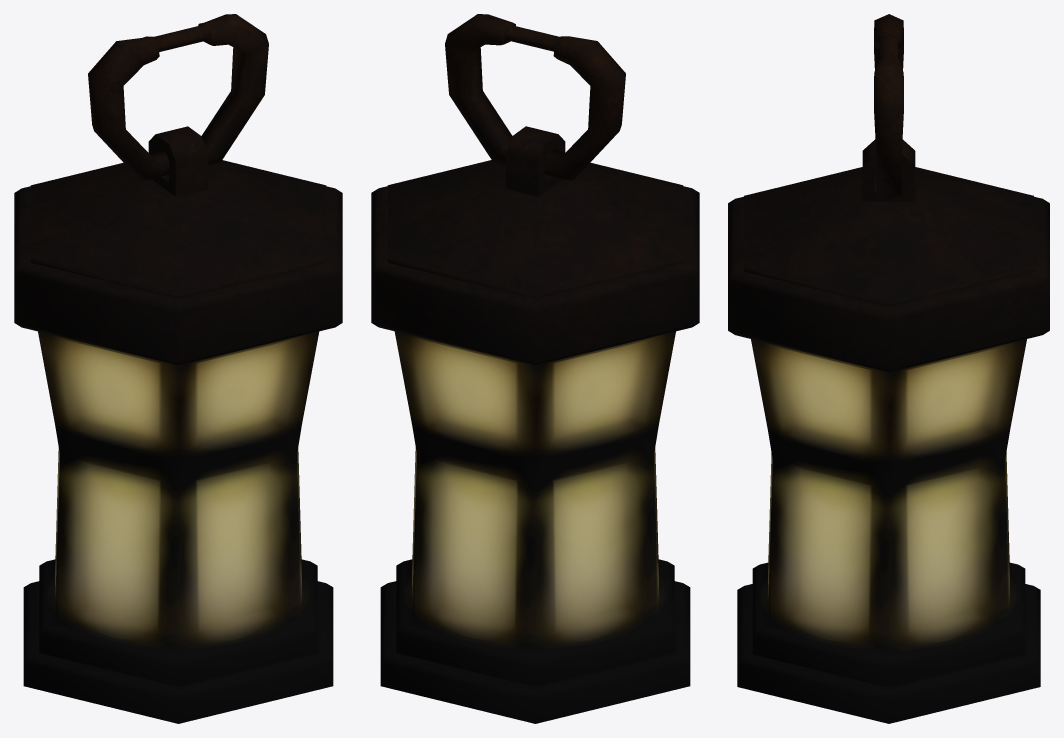
Rendered from lantern.glb.
3 views of the same model, side by side, from view 1: azimuth 30°, elevation 25°; view 2: azimuth 150°, elevation 25°; view 3: azimuth 270°, elevation 25° (orthographic).
Visible parts, largest first — view 1: first, second, forth, third; view 2: first, second, forth, third; view 3: first, second, forth, third.
Boxes of the visible parts, x1,y1,x2,y2 form: first: (14,186,342,686); second: (23,160,333,723); forth: (88,14,268,180); third: (148,126,208,196); first: (371,186,699,686); second: (380,160,690,723); forth: (445,14,625,180); third: (505,126,565,196); first: (728,196,1049,687); second: (737,167,1040,723); forth: (874,14,903,199); third: (862,139,915,201).
Size of the model in its own units: 4.1 by 7.41 by 3.55.
1 material, 1 textured.
